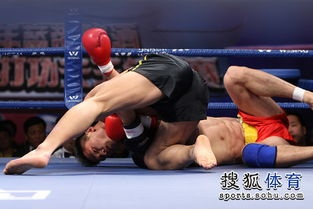falling: (17, 38, 313, 173)
